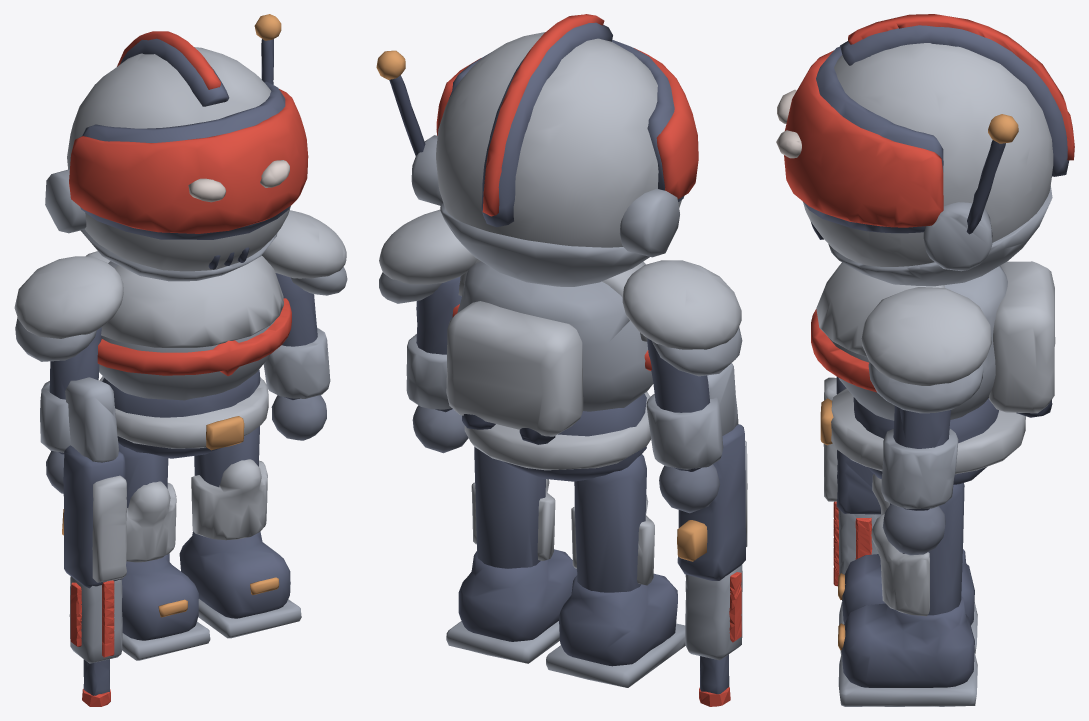
File: trooper.glb
The picture shows the model from 3 angles, left to right: view 1: azimuth 30°, elevation 25°; view 2: azimuth 150°, elevation 25°; view 3: azimuth 270°, elevation 25°; orthographic projection. The views are drawn at different scales.
Parts seen in each view (by area): view 1: torso, head, head_glow, leg_l, gun, leg_r, arm_l, torso_glow, arm_r, gun_glow; view 2: torso, head, leg_r, leg_l, gun, arm_r, head_glow, arm_l, gun_glow; view 3: head, torso, leg_l, head_glow, arm_l, gun, leg_r, torso_glow, gun_glow.
Part boxes in pixels (x1,y1,x2,y2): torso: [14, 210, 347, 458]; head: [45, 14, 290, 281]; head_glow: [69, 31, 308, 233]; leg_l: [179, 426, 301, 638]; gun: [62, 377, 126, 695]; leg_r: [118, 443, 210, 660]; arm_l: [263, 273, 330, 440]; torso_glow: [97, 298, 291, 376]; arm_r: [40, 327, 101, 493]; gun_glow: [70, 580, 114, 706]; torso: [379, 209, 742, 481]; head: [376, 22, 684, 286]; leg_r: [546, 454, 685, 687]; leg_l: [446, 447, 577, 663]; gun: [677, 363, 747, 694]; arm_r: [646, 338, 723, 513]; head_glow: [436, 14, 698, 216]; arm_l: [406, 276, 468, 453]; gun_glow: [699, 572, 741, 706]; head: [802, 25, 1069, 286]; torso: [816, 261, 1055, 484]; leg_l: [838, 483, 977, 706]; head_glow: [776, 14, 1074, 227]; arm_l: [881, 405, 958, 555]; gun: [823, 376, 880, 574]; leg_r: [838, 474, 977, 654]; torso_glow: [811, 309, 876, 392]; gun_glow: [833, 501, 872, 586].
Size of the model in its own units: 0.698 by 1.29 by 0.5068.
